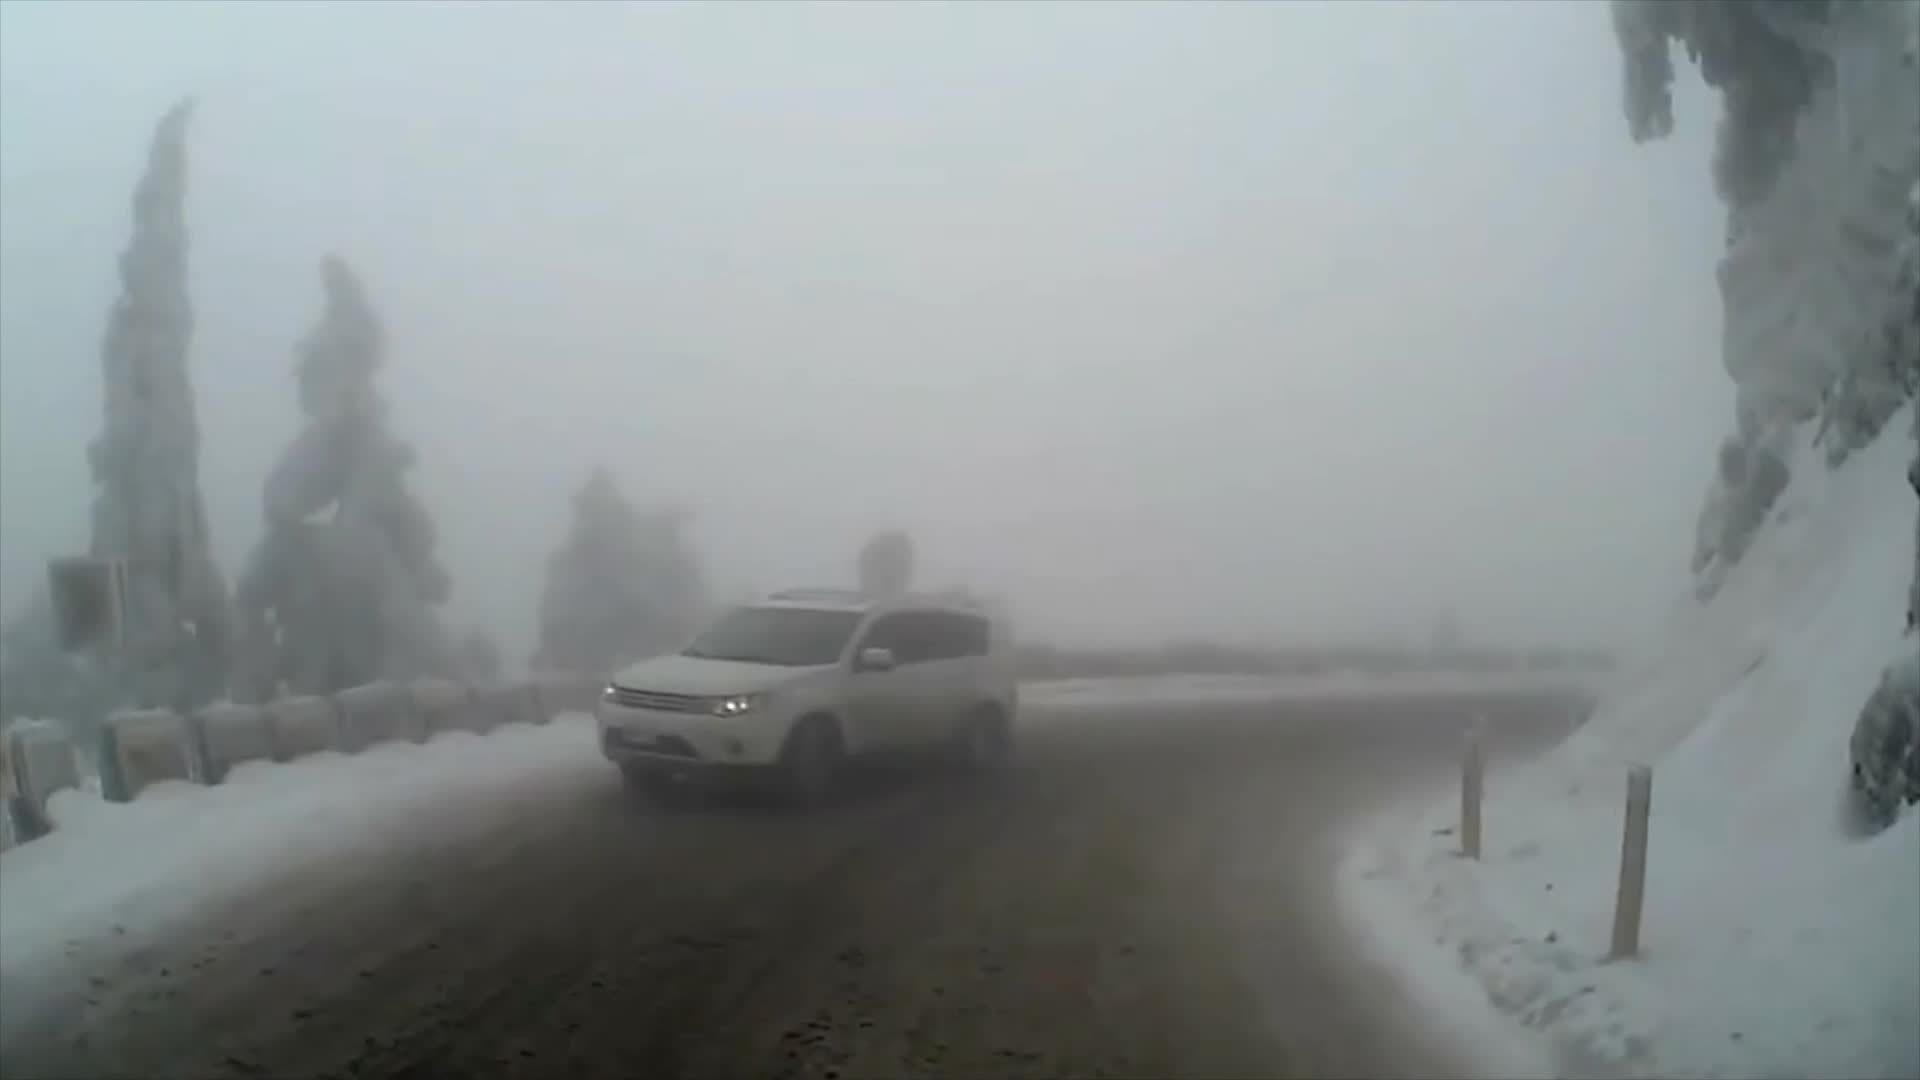vehicle: (591, 588, 1017, 823)
